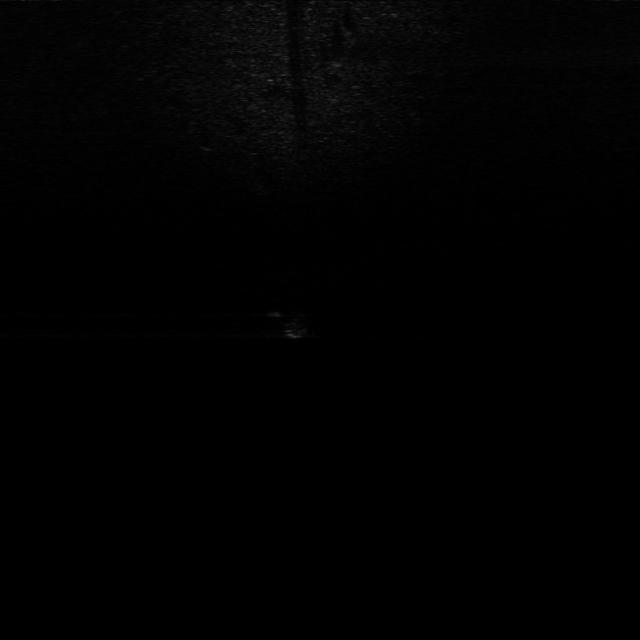human body: (259, 304, 322, 342)
